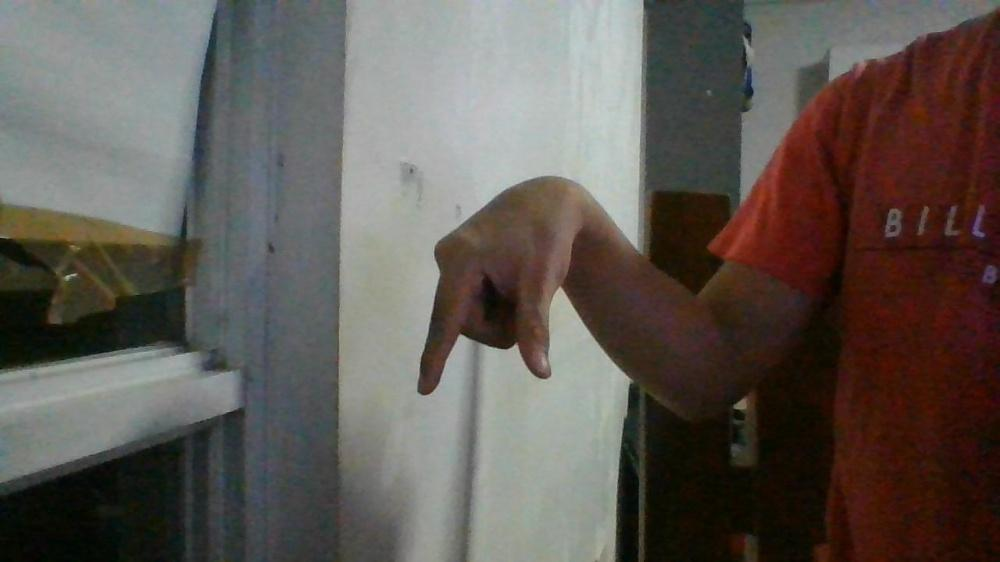q: (414, 174, 584, 397)
